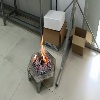fire: (41, 34, 48, 63), (33, 54, 37, 62)
